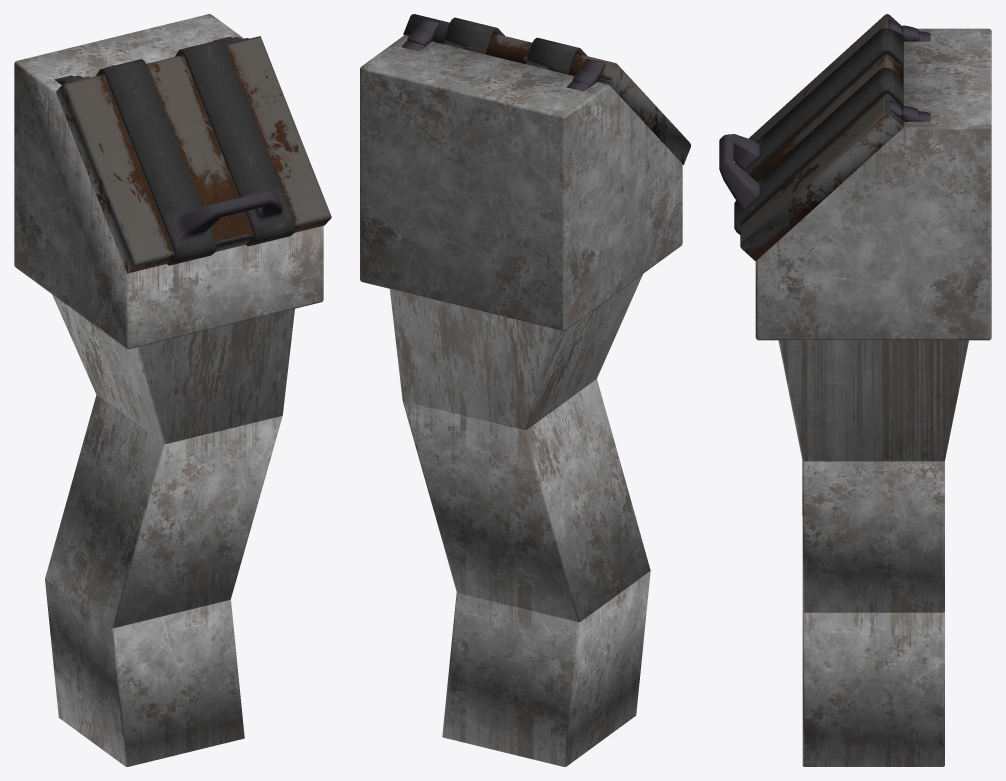
Rendered from Trash Schute_Textured.fbx.
3 views of the same model, side by side, from view 1: azimuth 30°, elevation 25°; view 2: azimuth 150°, elevation 25°; view 3: azimuth 270°, elevation 25° (orthographic). The views are drawn at different scales.
Parts seen in each view (by area): view 1: Cube.004, Cube.005; view 2: Cube.004, Cube.005, Cube.006; view 3: Cube.004, Cube.005, Cube.006.
Boxes of the visible parts, left/top/right/bottom form: Cube.004: left=14, top=14, right=323, bottom=766; Cube.005: left=56, top=36, right=331, bottom=273; Cube.004: left=360, top=35, right=682, bottom=766; Cube.005: left=403, top=14, right=690, bottom=164; Cube.006: left=401, top=19, right=604, bottom=91; Cube.004: left=755, top=28, right=991, bottom=766; Cube.005: left=719, top=14, right=903, bottom=261; Cube.006: left=889, top=20, right=930, bottom=121.
Size of the model in its own units: 200 by 643 by 231.
Materials: 3 (3 with a texture image).
